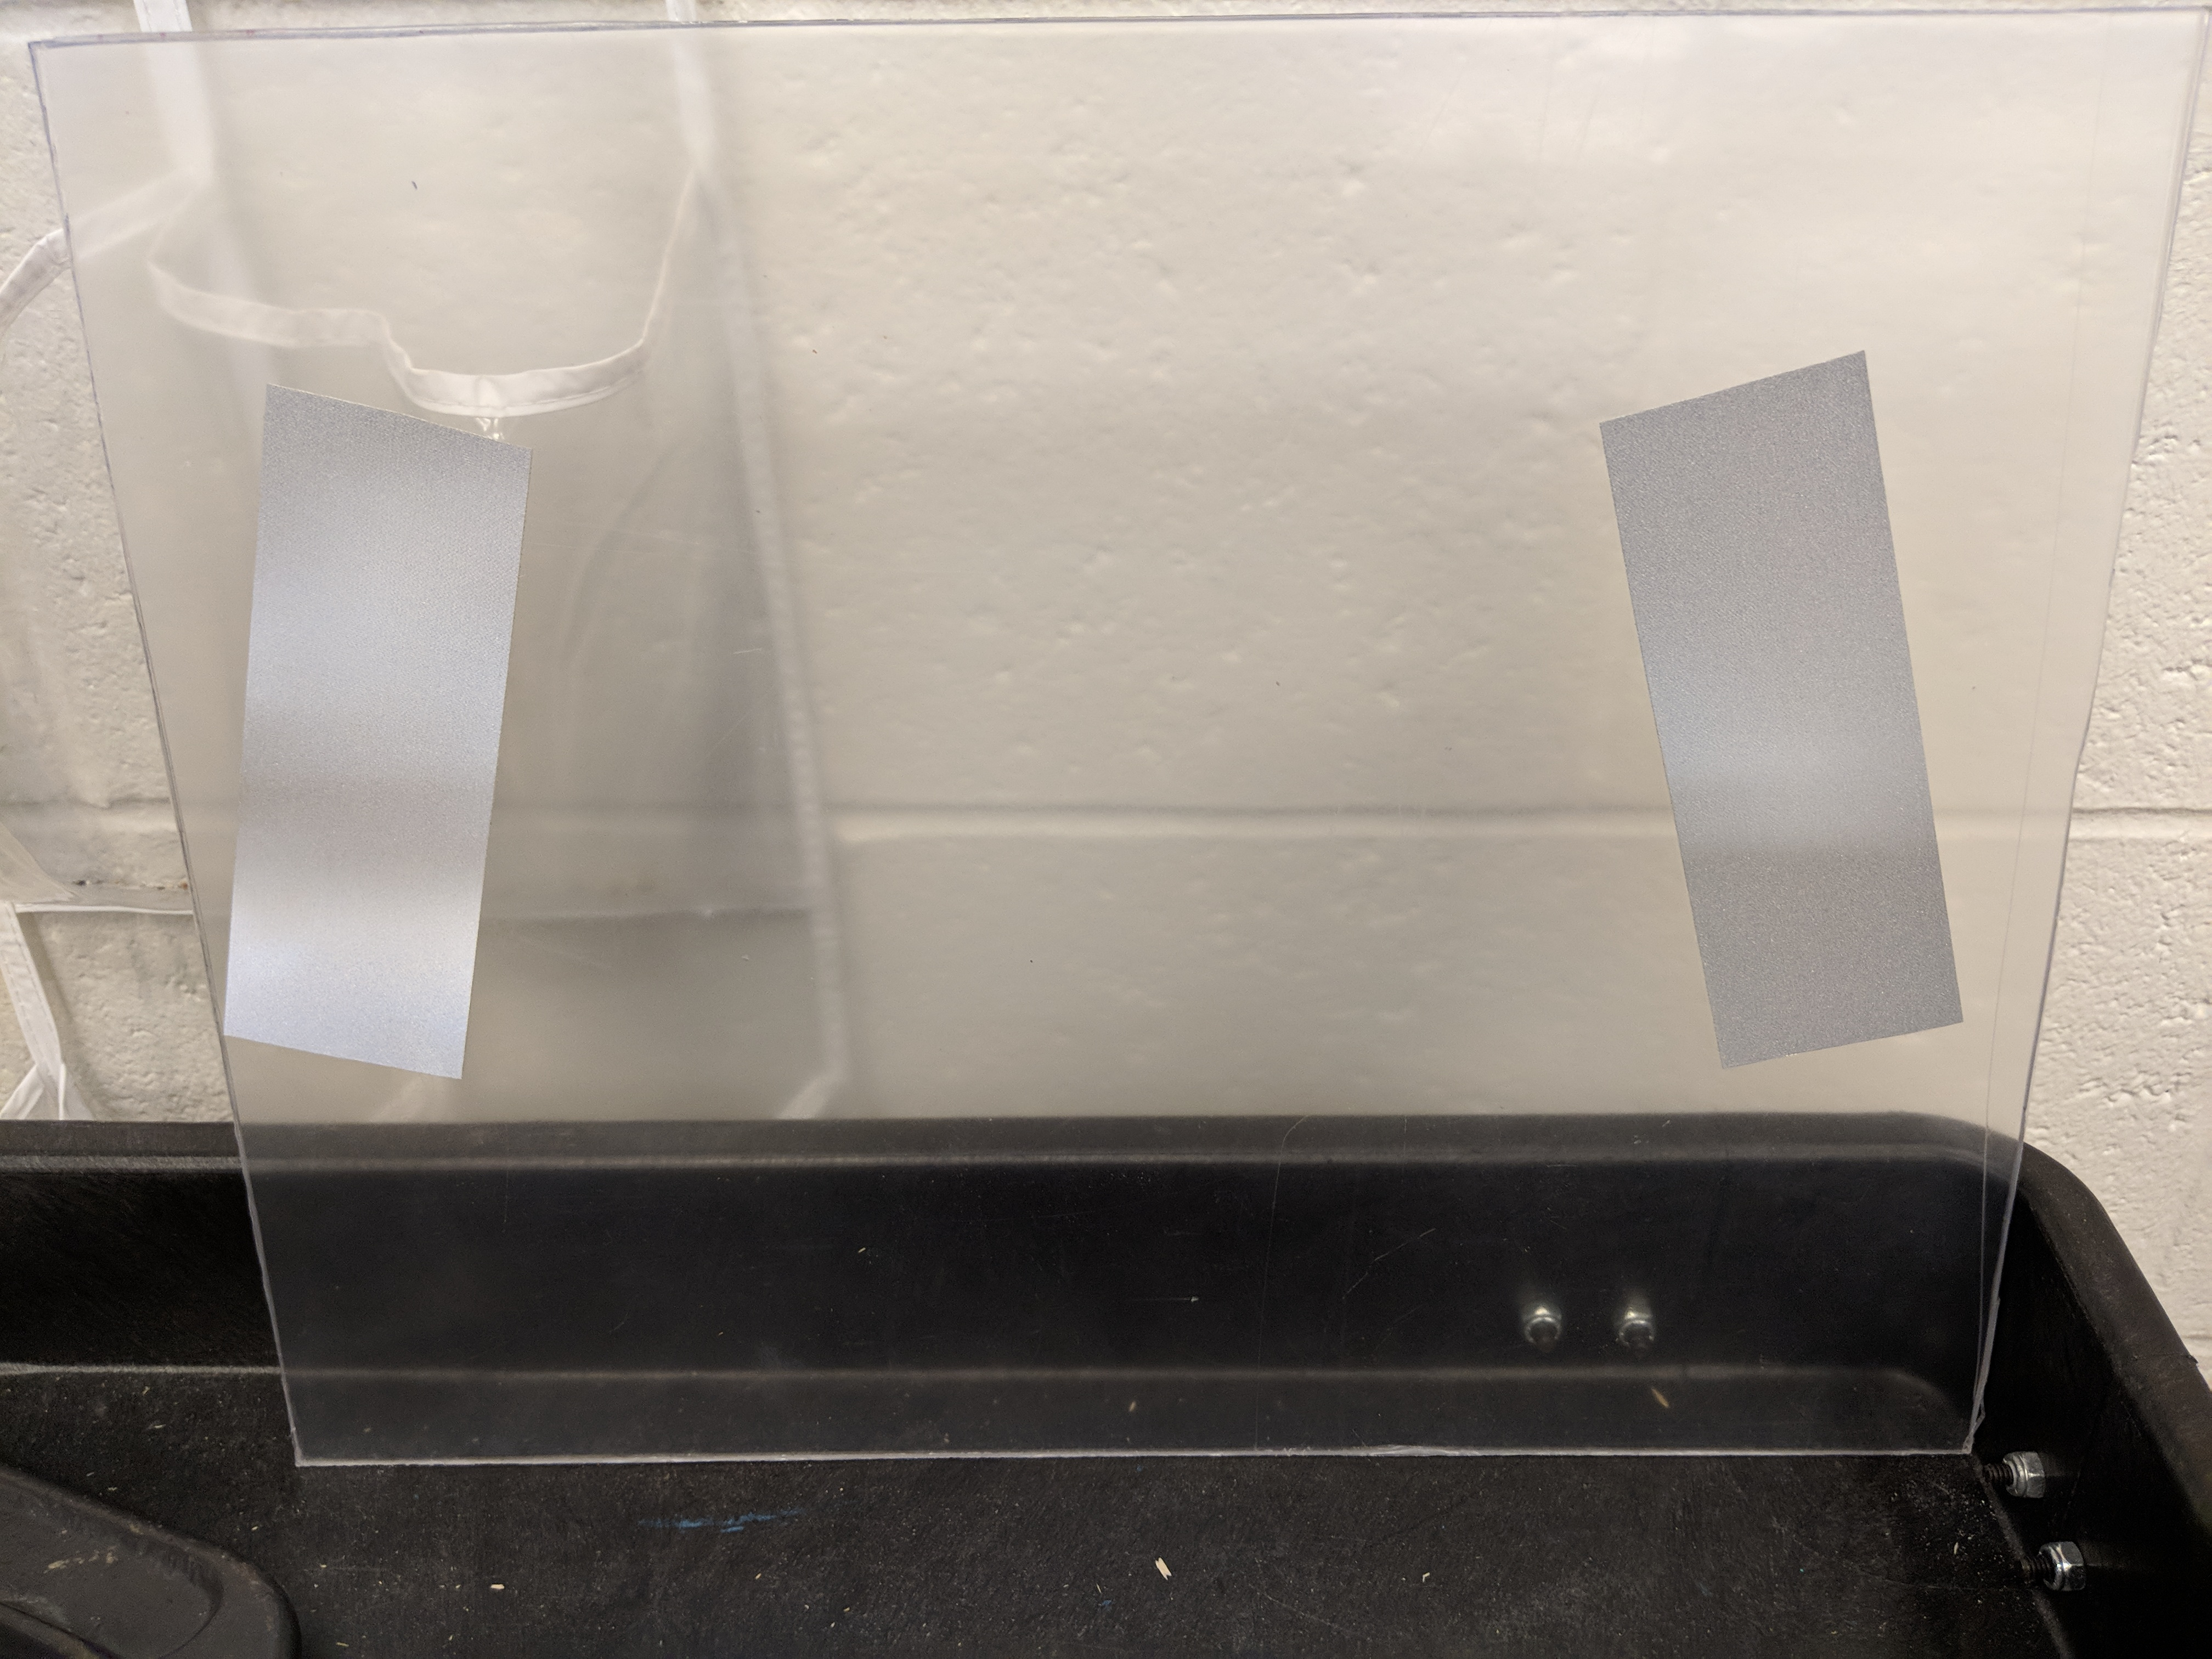vision_target: (204, 335, 1979, 1091)
